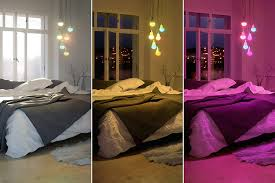bulb: (145, 19, 162, 29), (155, 21, 166, 34), (152, 47, 165, 58), (154, 31, 162, 44), (149, 42, 161, 50), (149, 32, 155, 41)
